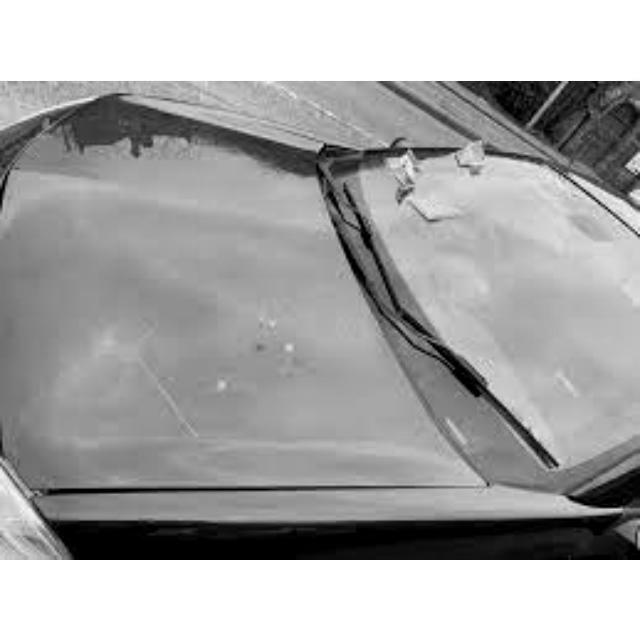bonnet-dent: (0, 133, 390, 498)
